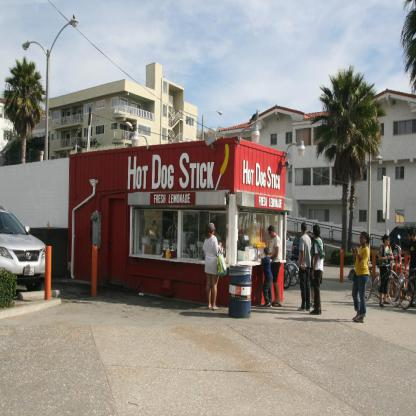Car: (2, 205, 51, 297)
